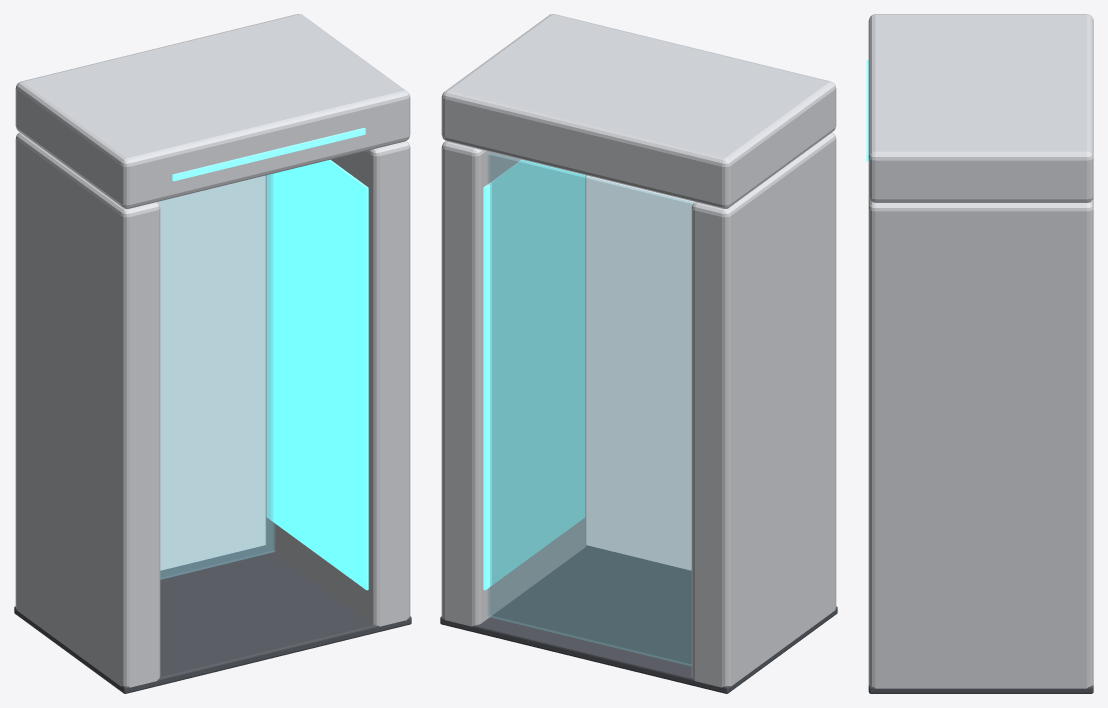
The model's file is scanner_arch_body_scanner.glb.
3 renders of one model, left to right at view 1: azimuth 30°, elevation 25°; view 2: azimuth 150°, elevation 25°; view 3: azimuth 270°, elevation 25°, orthographic.
Parts seen in each view (by area): view 1: GD_scanner_arch_body_scanner__m0, GD_scanner_arch_body_scanner__m3, GD_scanner_arch_body_scanner__m1, GD_scanner_arch_body_scanner__m2; view 2: GD_scanner_arch_body_scanner__m0, GD_scanner_arch_body_scanner__m3, GD_scanner_arch_body_scanner__m1, GD_scanner_arch_body_scanner__m2; view 3: GD_scanner_arch_body_scanner__m0, GD_scanner_arch_body_scanner__m2.
Part boxes in pixels (x1=…): GD_scanner_arch_body_scanner__m0: x1=15, y1=14, x2=410, y2=687; GD_scanner_arch_body_scanner__m3: x1=157, y1=174, x2=274, y2=579; GD_scanner_arch_body_scanner__m1: x1=172, y1=127, x2=368, y2=590; GD_scanner_arch_body_scanner__m2: x1=14, y1=545, x2=411, y2=693; GD_scanner_arch_body_scanner__m0: x1=441, y1=14, x2=836, y2=687; GD_scanner_arch_body_scanner__m3: x1=488, y1=152, x2=694, y2=666; GD_scanner_arch_body_scanner__m1: x1=483, y1=159, x2=585, y2=590; GD_scanner_arch_body_scanner__m2: x1=440, y1=545, x2=837, y2=693; GD_scanner_arch_body_scanner__m0: x1=868, y1=14, x2=1093, y2=688; GD_scanner_arch_body_scanner__m2: x1=868, y1=685, x2=1093, y2=693.
Size of the model in its own units: 1.5 by 2.65 by 1.01.
